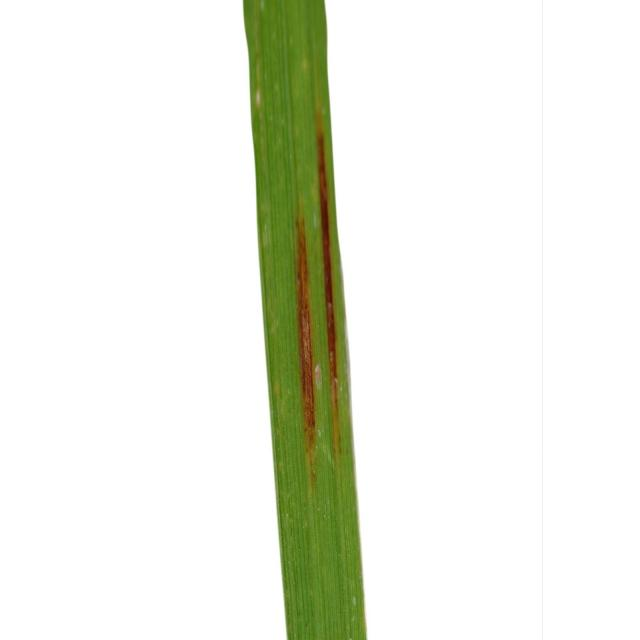Narrow brown: (214, 1, 392, 640)
